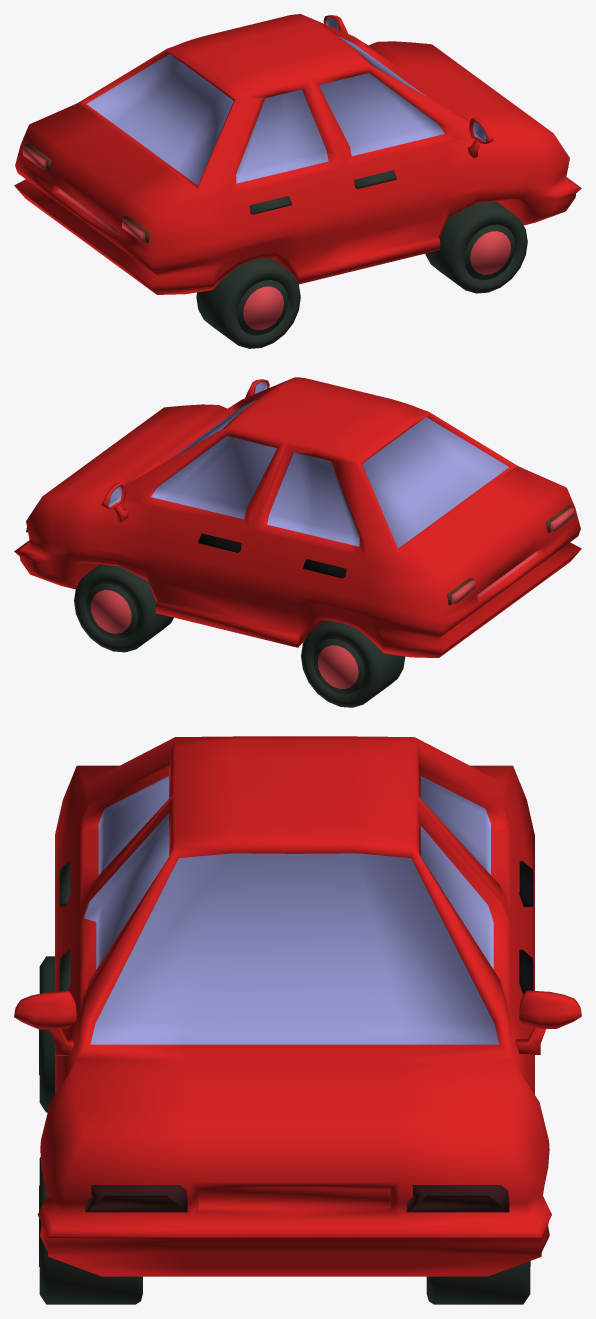
The model's file is Car.glb.
3 renders of one model, top to bottom at view 1: azimuth 30°, elevation 25°; view 2: azimuth 150°, elevation 25°; view 3: azimuth 270°, elevation 25°, orthographic. The views are drawn at different scales.
Visible parts, largest first — view 1: Cube.004; view 2: Cube.004; view 3: Cube.004.
Boxes of the visible parts, box(x1,y1,x2,y2) form: Cube.004: box(14, 14, 581, 348); Cube.004: box(14, 377, 581, 707); Cube.004: box(14, 736, 581, 1304).
Size of the model in its own units: 1.64 by 0.8256 by 1.08.
